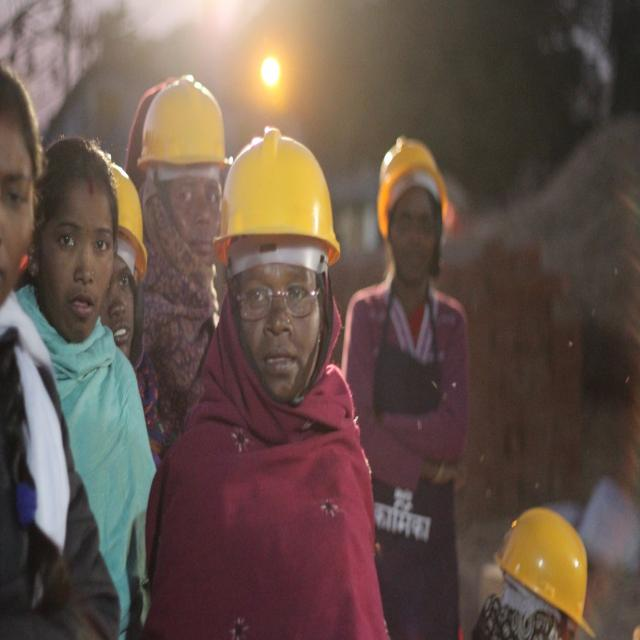Safety-Helmet: (212, 121, 341, 272), (488, 496, 598, 638), (136, 69, 232, 178), (371, 124, 460, 236)
